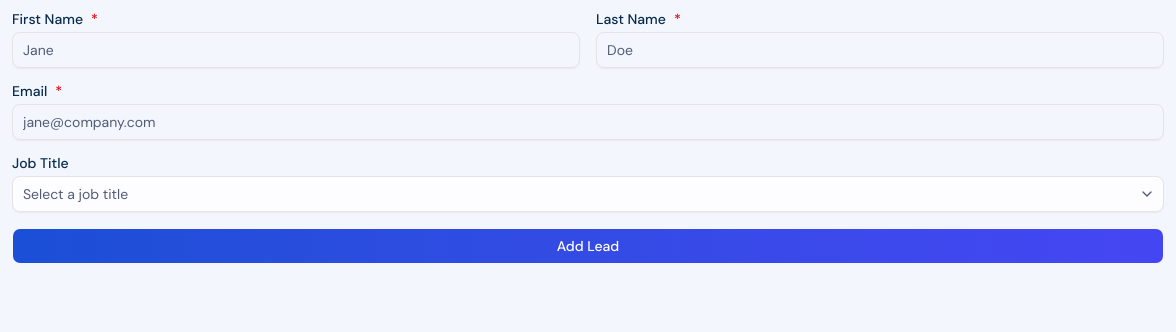
Test: shows validation errors and does not submit an empty form
Click the button "Add Lead": (588, 246) [12,228,1164,264]
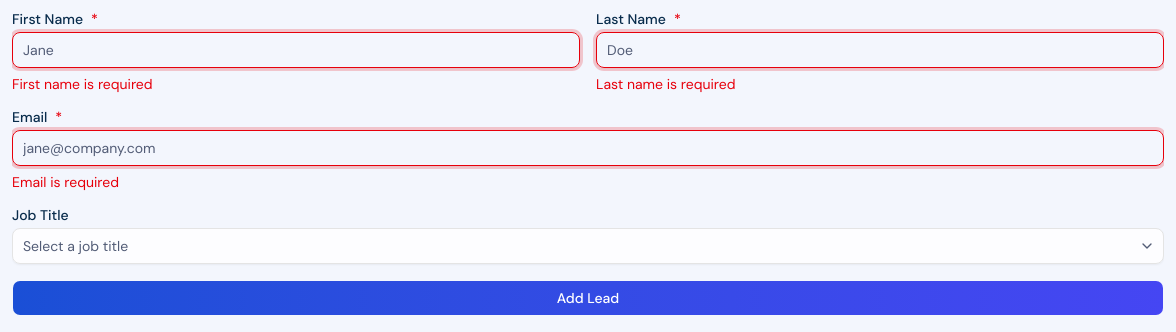
expect the text "First name is required" is shown: met, box [12,75,152,93]
expect the text "Last name is required" is shown: met, box [596,75,736,93]
